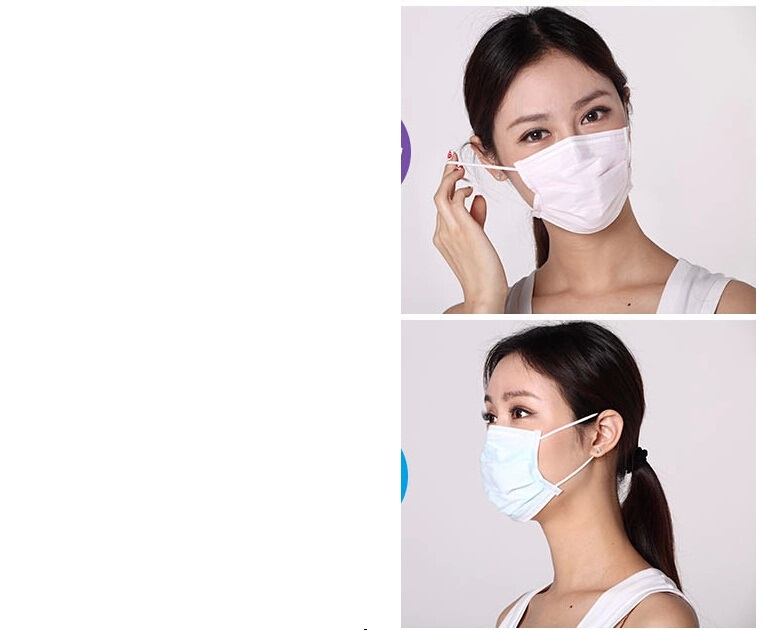face_mask: (501, 68, 632, 234), (481, 372, 569, 524)
